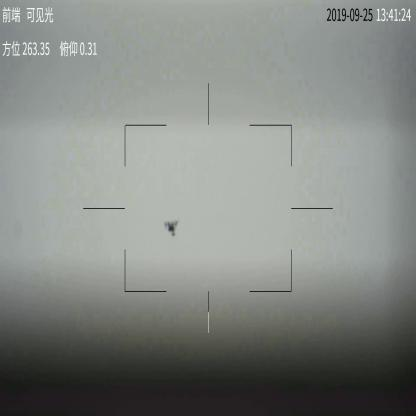uav: (163, 218, 180, 240)
